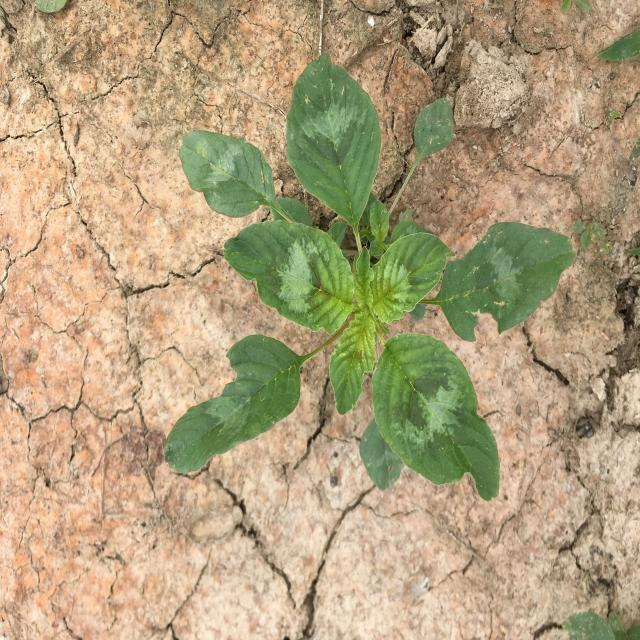PalmerAmaranth: (164, 53, 577, 501)
